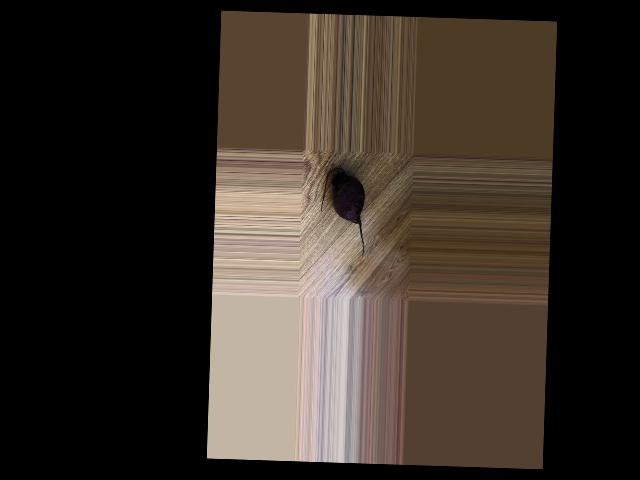beet: (319, 167, 366, 257)
